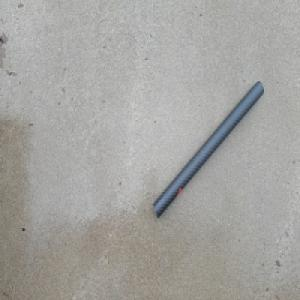LuggagePart: (153, 77, 263, 217)
